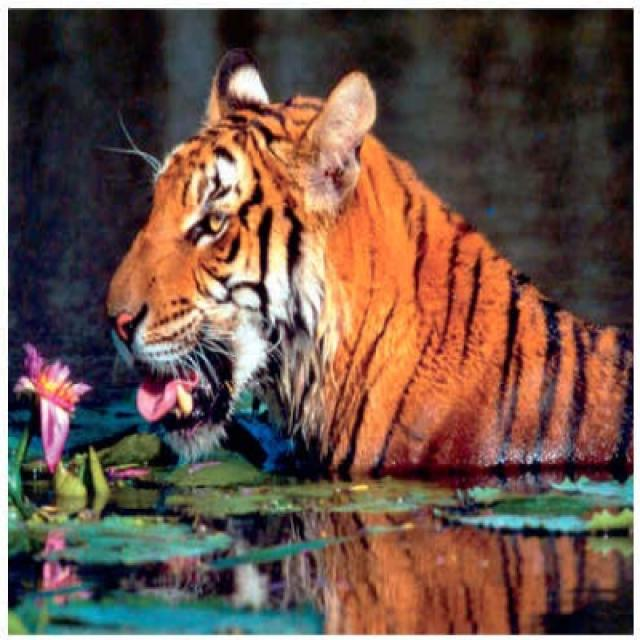Tiger: (106, 53, 630, 474)
